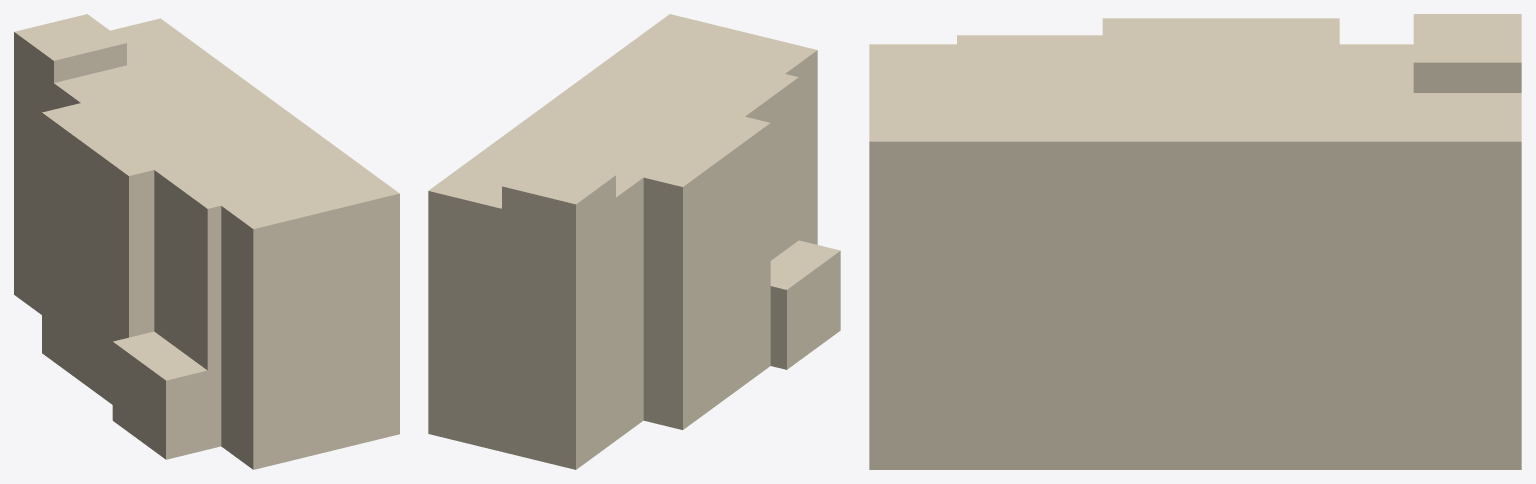
Rendered from SM_Bone_Building.fbx.
The picture shows the model from 3 angles, left to right: view 1: azimuth 30°, elevation 25°; view 2: azimuth 150°, elevation 25°; view 3: azimuth 270°, elevation 25°; orthographic projection. The views are drawn at different scales.
Parts seen in each view (by area): view 1: SM_Bone_Building; view 2: SM_Bone_Building; view 3: SM_Bone_Building.
Part boxes in pixels (x1,y1,x2,y2): SM_Bone_Building: [14, 14, 399, 469]; SM_Bone_Building: [428, 14, 840, 469]; SM_Bone_Building: [869, 14, 1521, 469].
Bounding box in the file's own units: 23.74 × 29.61 × 48.83.
